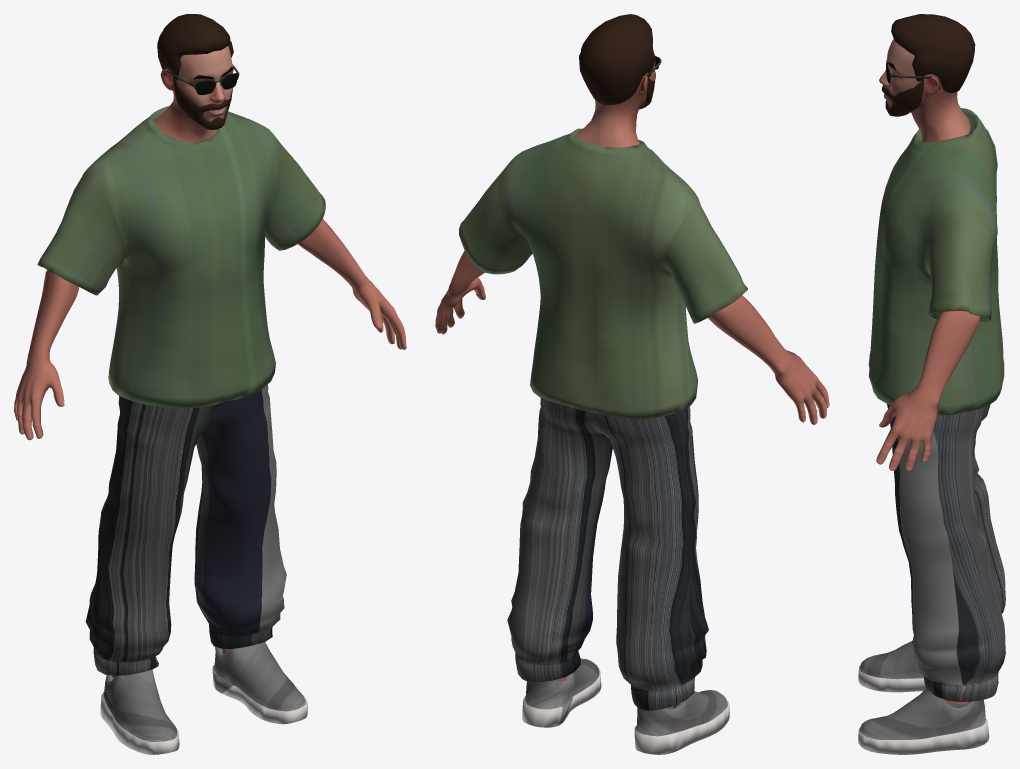
The picture shows the model from 3 angles, left to right: view 1: azimuth 30°, elevation 25°; view 2: azimuth 150°, elevation 25°; view 3: azimuth 270°, elevation 25°; orthographic projection.
Visible parts, largest first — view 1: Wolf3D_Outfit_Top, Wolf3D_Outfit_Bottom, Wolf3D_Outfit_Footwear, Wolf3D_Body, Wolf3D_Head, Wolf3D_Hair, Wolf3D_Beard; view 2: Wolf3D_Outfit_Top, Wolf3D_Outfit_Bottom, Wolf3D_Outfit_Footwear, Wolf3D_Body, Wolf3D_Hair, Wolf3D_Head; view 3: Wolf3D_Outfit_Top, Wolf3D_Outfit_Bottom, Wolf3D_Outfit_Footwear, Wolf3D_Body, Wolf3D_Hair, Wolf3D_Head, Wolf3D_Beard.
Boxes of the visible parts, x1,y1,x2,y2 form: Wolf3D_Outfit_Top: [37, 106, 325, 408]; Wolf3D_Outfit_Bottom: [85, 384, 286, 675]; Wolf3D_Outfit_Footwear: [100, 642, 307, 754]; Wolf3D_Body: [14, 219, 406, 677]; Wolf3D_Head: [153, 46, 233, 142]; Wolf3D_Hair: [157, 14, 233, 80]; Wolf3D_Beard: [173, 76, 232, 129]; Wolf3D_Outfit_Top: [458, 128, 747, 419]; Wolf3D_Outfit_Bottom: [507, 398, 708, 710]; Wolf3D_Outfit_Footwear: [521, 658, 729, 754]; Wolf3D_Body: [435, 250, 829, 708]; Wolf3D_Hair: [579, 14, 655, 105]; Wolf3D_Head: [575, 51, 655, 147]; Wolf3D_Outfit_Top: [868, 108, 1004, 415]; Wolf3D_Outfit_Bottom: [887, 404, 1005, 702]; Wolf3D_Outfit_Footwear: [858, 641, 989, 754]; Wolf3D_Body: [876, 310, 980, 704]; Wolf3D_Hair: [891, 14, 975, 93]; Wolf3D_Head: [879, 39, 970, 142]; Wolf3D_Beard: [881, 78, 924, 116].
Bounding box in the file's own units: 1.06 × 1.86 × 0.3573.
10 materials, 10 textured.
